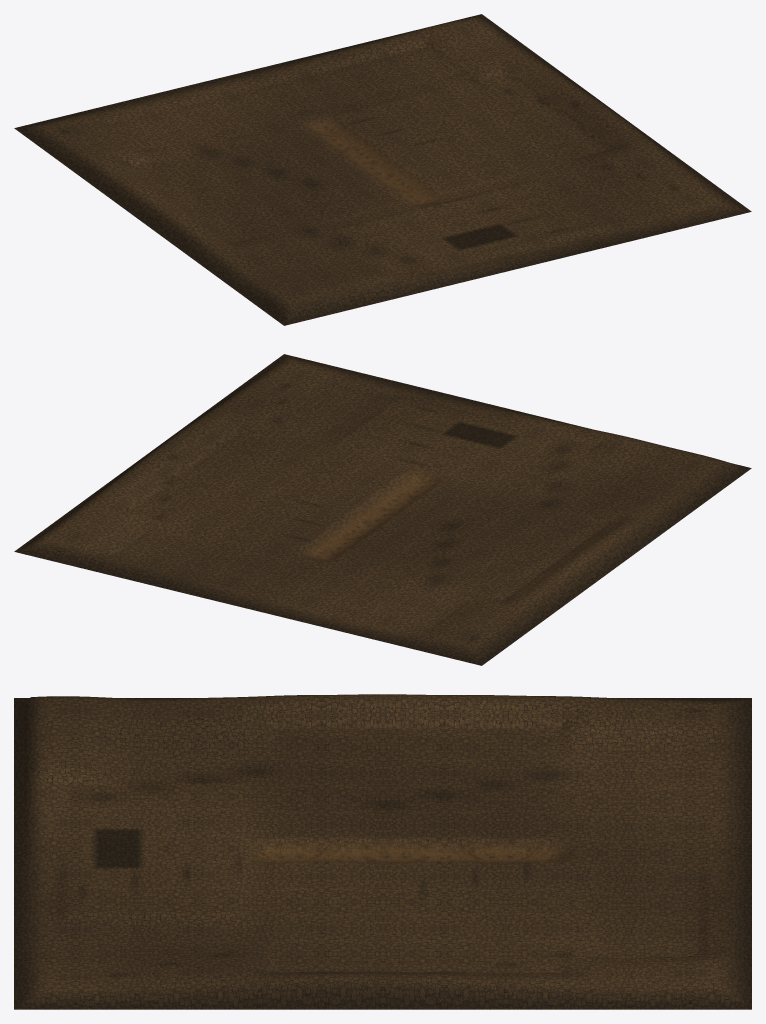
File: archive-world-terrain.glb
3 views of the same model, one above another, from view 1: azimuth 30°, elevation 25°; view 2: azimuth 150°, elevation 25°; view 3: azimuth 270°, elevation 25° (orthographic). The views are drawn at different scales.
Parts seen in each view (by area): view 1: ArchiveWorldTerrain; view 2: ArchiveWorldTerrain; view 3: ArchiveWorldTerrain.
Boxes of the visible parts, left/top/right/bottom form: ArchiveWorldTerrain: left=14, top=14, right=751, bottom=325; ArchiveWorldTerrain: left=14, top=354, right=751, bottom=665; ArchiveWorldTerrain: left=14, top=694, right=751, bottom=1009.
Size of the model in its own units: 128 by 4.43 by 128.
Materials: 1 (1 with a texture image).
